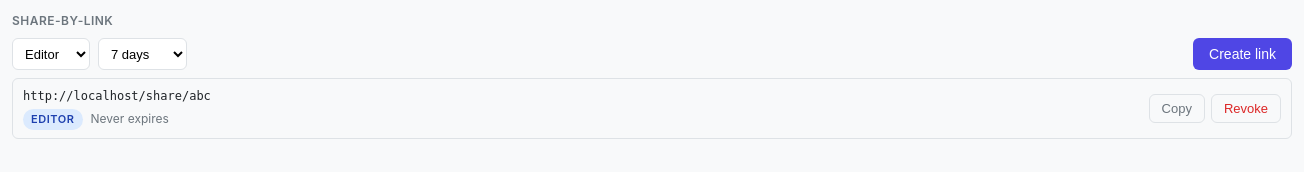
it: ShareLinksPanel › optimistically removes a revoked link before the API resolves
Expected: the text "http://localhost/share/abc" is shown, [23,89,211,103]
Click the button with aria-label "revoke link". click: (1246, 108)
box: [1211,94,1281,123]
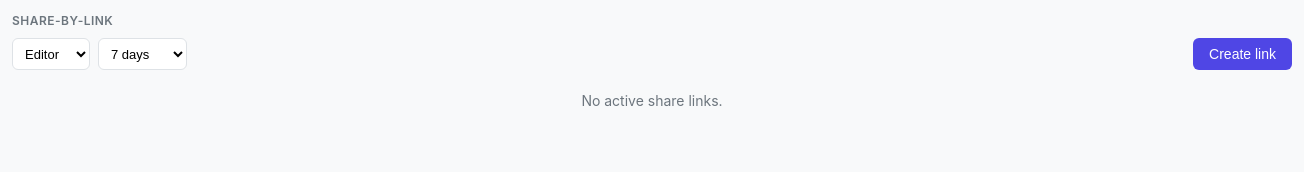
Expected: the text "/share/abc" is gone
Expected: the text "No active share links." is shown, [581,92,723,109]
